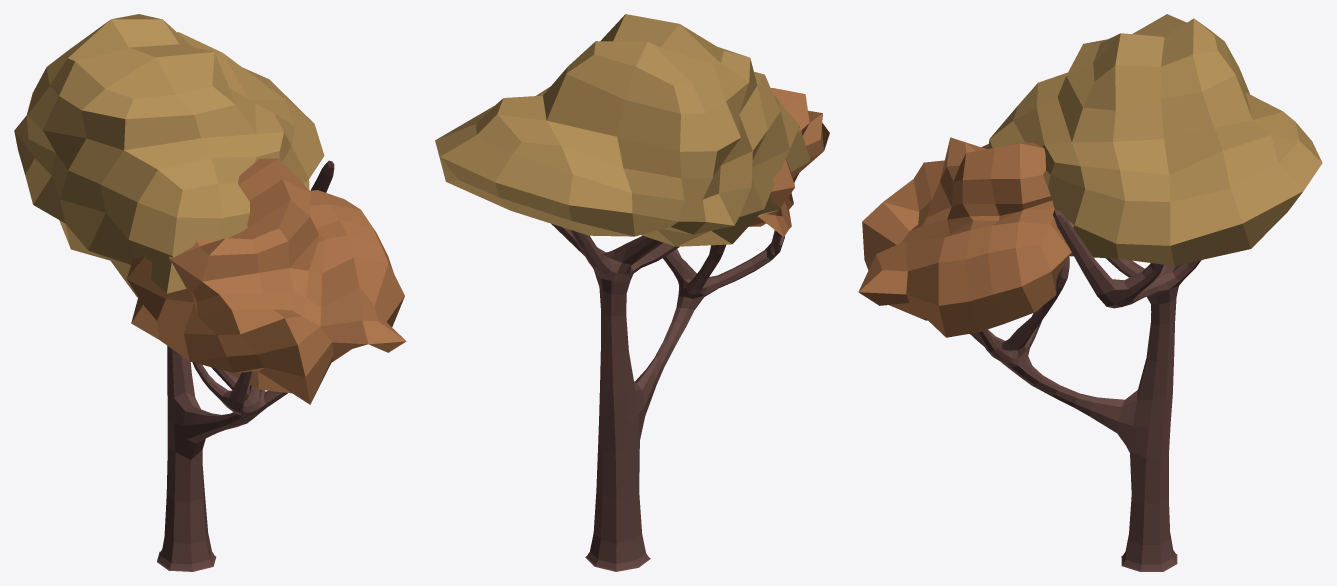
File: commontree_autumn2.glb
The picture shows the model from 3 angles, left to right: view 1: azimuth 30°, elevation 25°; view 2: azimuth 150°, elevation 25°; view 3: azimuth 270°, elevation 25°; orthographic projection. The views are drawn at different scales.
Parts seen in each view (by area): view 1: CommonTree_Autumn_2; view 2: CommonTree_Autumn_2; view 3: CommonTree_Autumn_2.
Boxes of the visible parts, left/top/right/bottom form: CommonTree_Autumn_2: left=14, top=14, right=406, bottom=571; CommonTree_Autumn_2: left=435, top=14, right=829, bottom=571; CommonTree_Autumn_2: left=858, top=14, right=1322, bottom=571.
Bounding box in the file's own units: 1.66 × 3.12 × 2.54.
